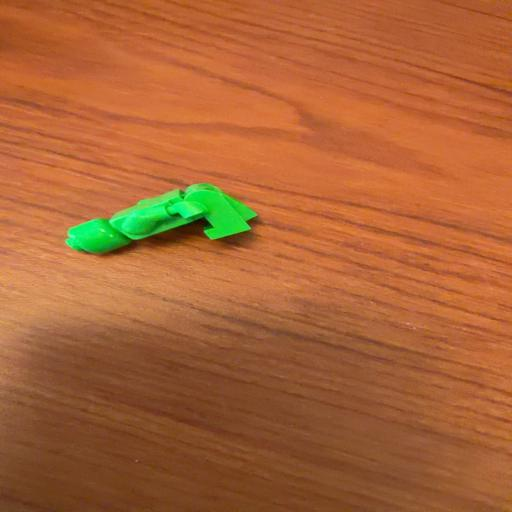UnoQ-minifig-detector: (66, 184, 257, 254), (185, 203, 185, 203)
